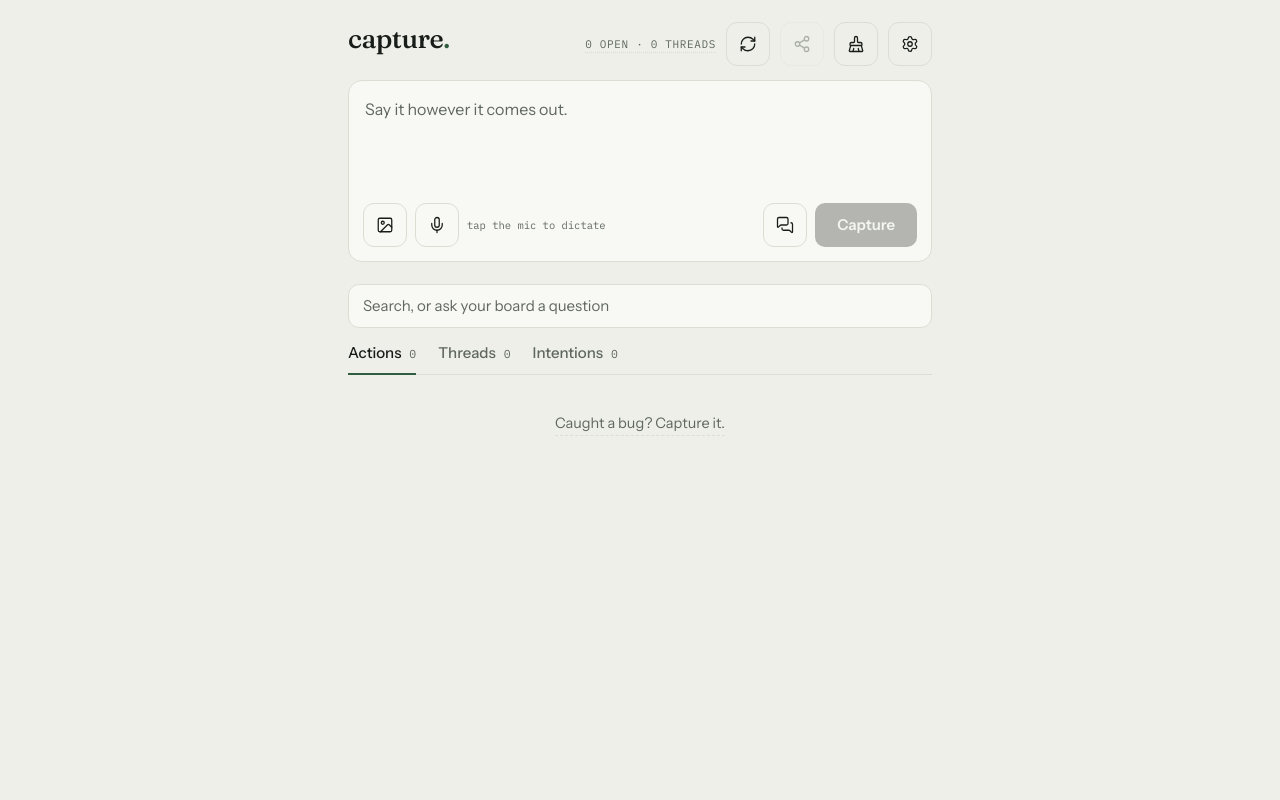
Test: dismisses after manual filing, names the actual destination, and offers capture-specific Undo
Type "File this exact pending capture" into the text box with placeholder "Say it however it comes out." at (640, 141), box [363,95,917,187]
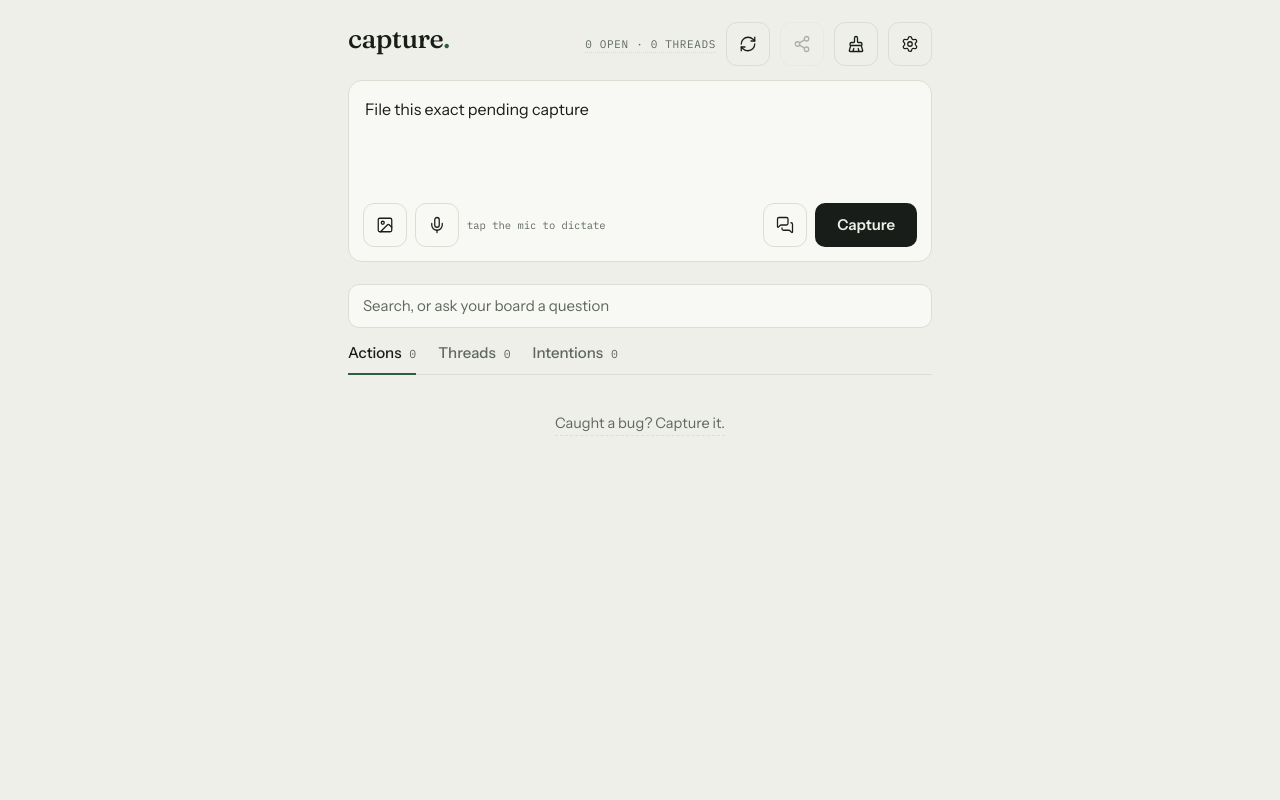
Click the button "Capture" at (866, 225), box [815,203,917,247]
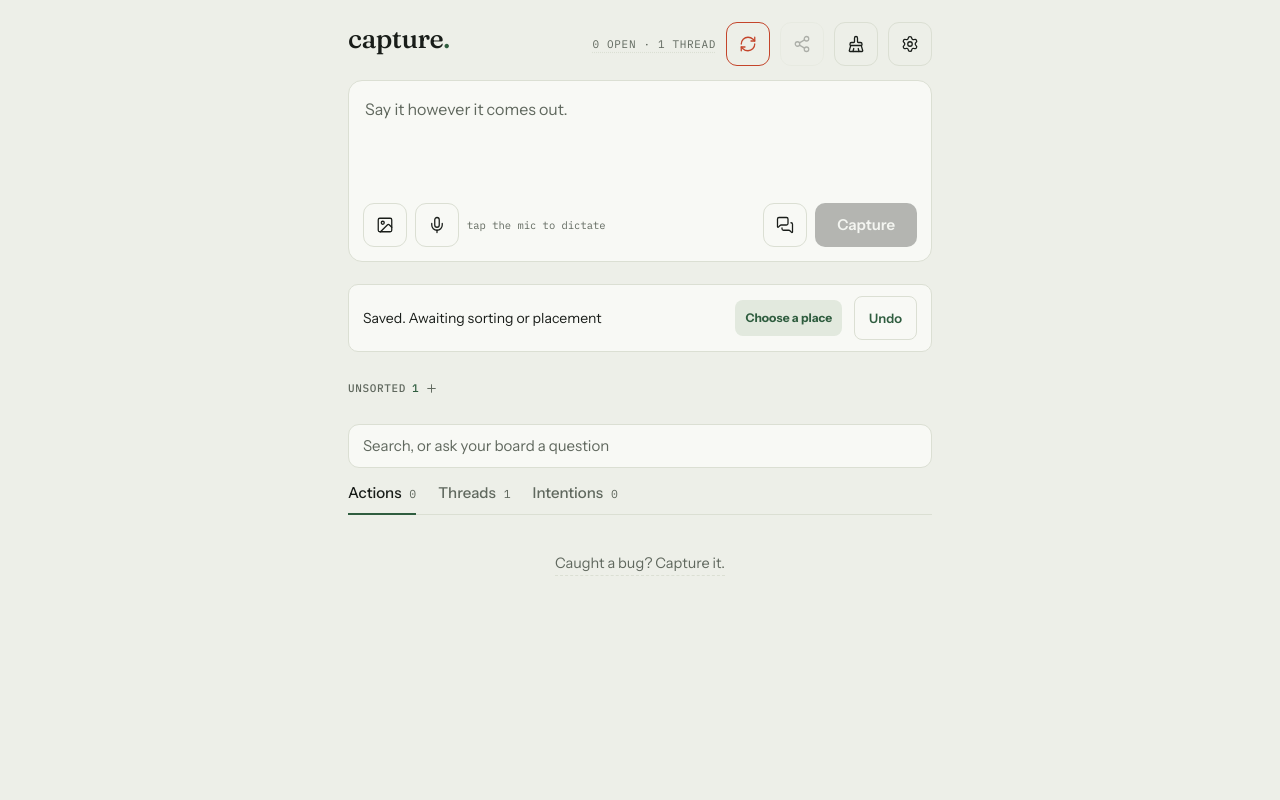
Check: the text "Saved. Awaiting sorting or placement" is shown, box [363,308,602,326]
Click the button "Choose a place" at (789, 318), box [735,300,842,336]
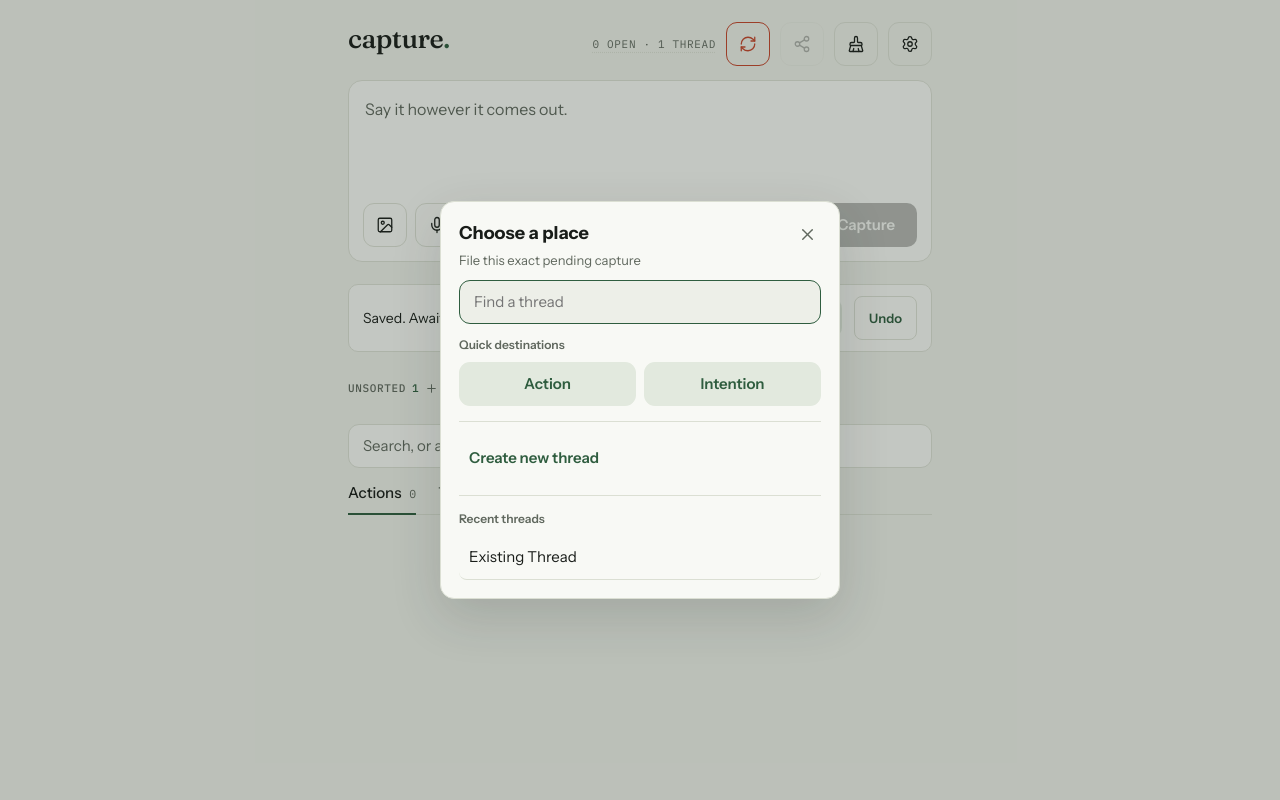
Click the button "Action" at (548, 384), box [459,362,636,406]
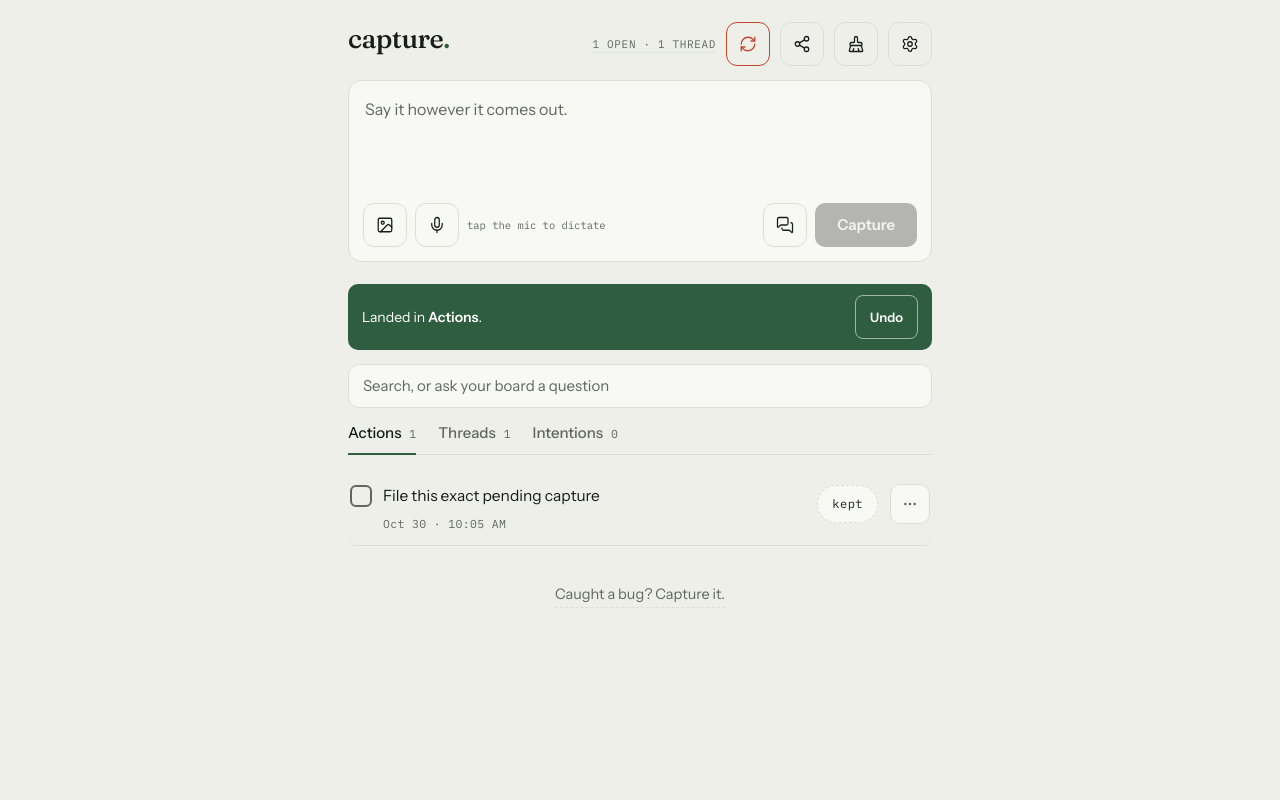
Check: the button "Undo" is shown
Check: the button "Choose a place" is gone
Click the button "Undo" at (886, 317), box [855,295,918,339]
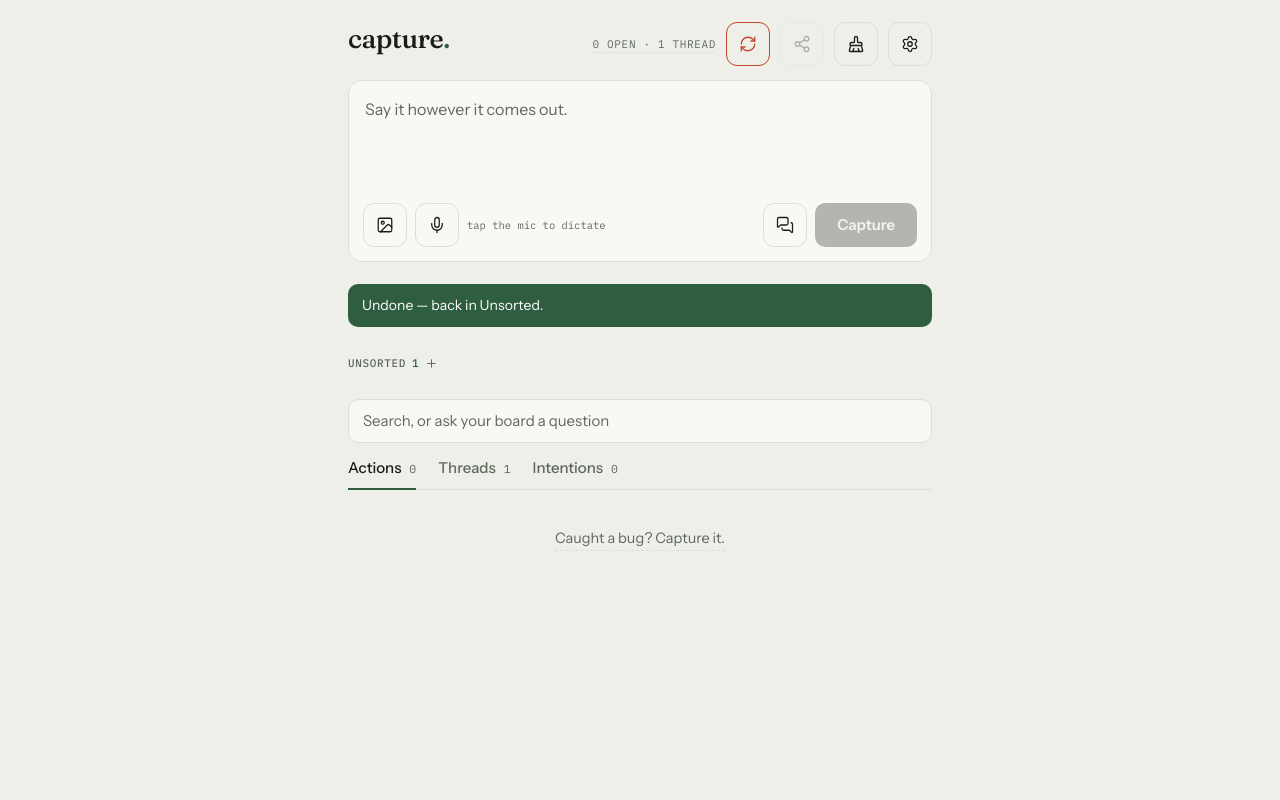
Check: the text "Undone — back in Unsorted." is shown, box [362,295,544,316]
Click the button "Unsorted 1" at (393, 363), box [348,341,438,385]
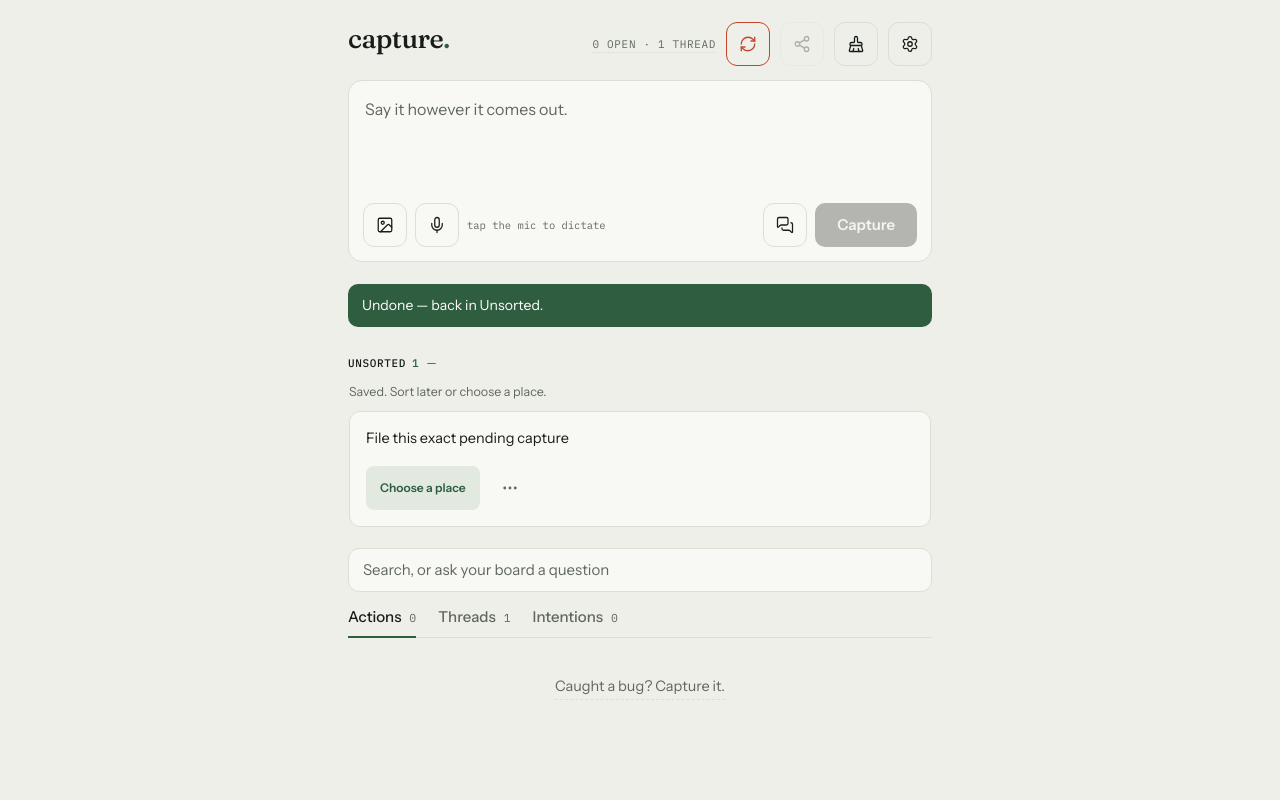
Check: the text "File this exact pending capture" is shown, box [366,428,569,446]
